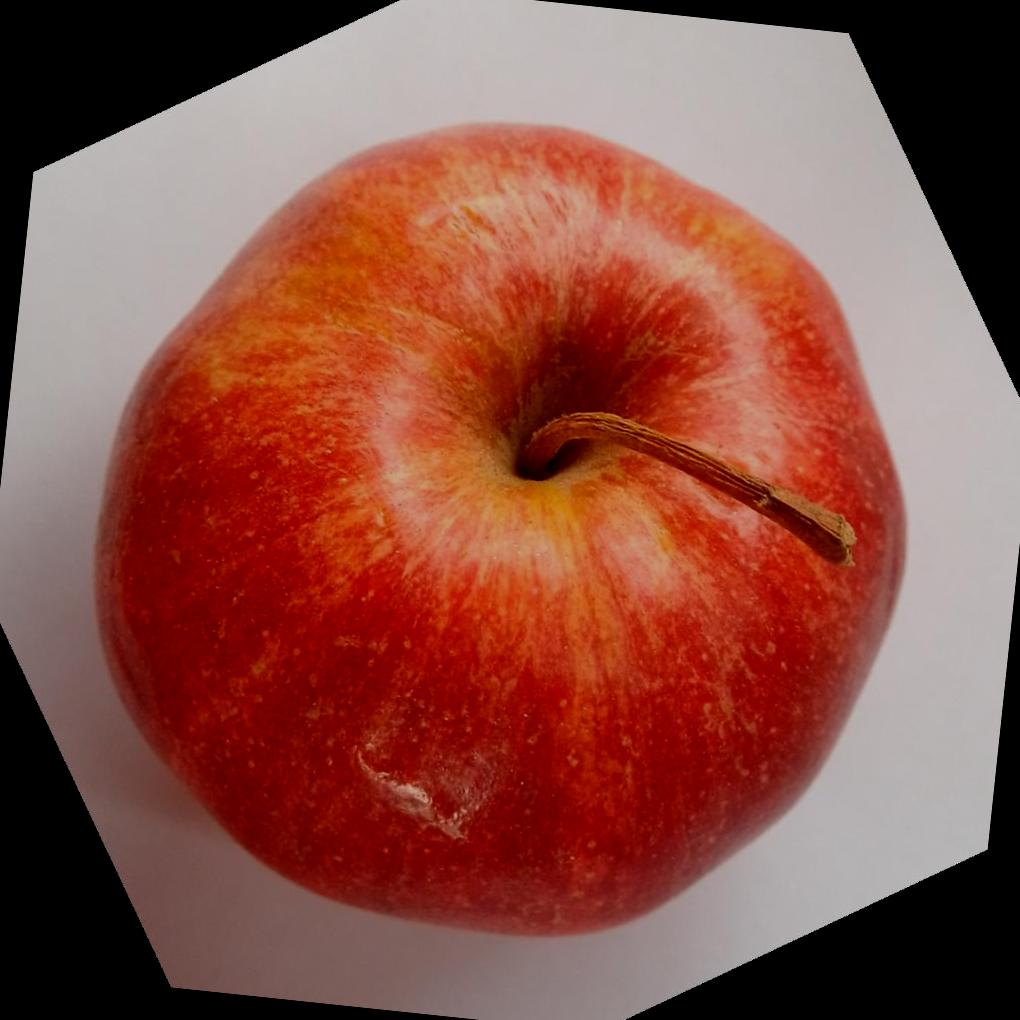FreshGuava: (87, 122, 909, 944)
